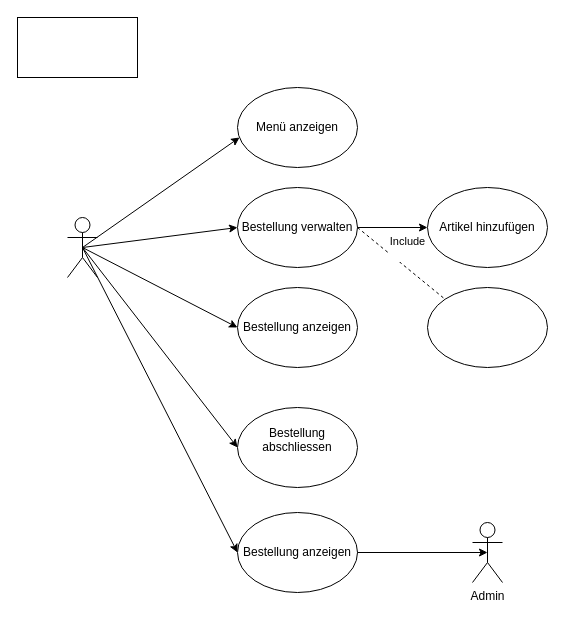
Some shapes in this 565 by 621 pixel diagram are drawn without their labels. Here are the shapes that lost their labels. From the top down, the centre of each, then its label:
(77,47): Pizzeria System
(82,247): Kunde
(487,327): Wunschpizza erstellen
